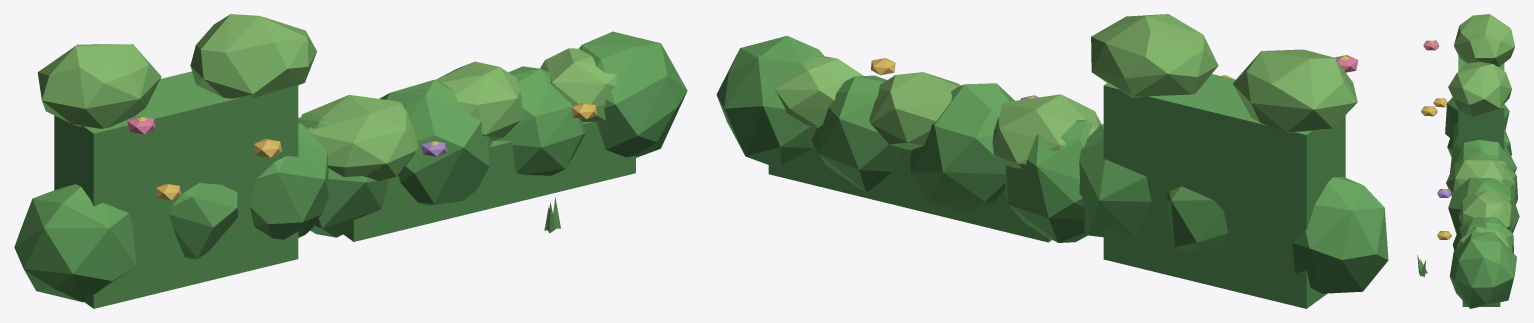
The model's file is ranch_border_hedge_stepped.fbx.
The picture shows the model from 3 angles, left to right: view 1: azimuth 30°, elevation 25°; view 2: azimuth 150°, elevation 25°; view 3: azimuth 270°, elevation 25°; orthographic projection. The views are drawn at different scales.
Visible parts, largest first — view 1: ranch_border_hedge_stepped; view 2: ranch_border_hedge_stepped; view 3: ranch_border_hedge_stepped.
Part boxes in pixels (x1,y1,x2,y2): ranch_border_hedge_stepped: [14, 14, 687, 308]; ranch_border_hedge_stepped: [716, 14, 1388, 308]; ranch_border_hedge_stepped: [1417, 14, 1519, 308].
Bounding box in the file's own units: 21.35 × 7.55 × 4.91.
